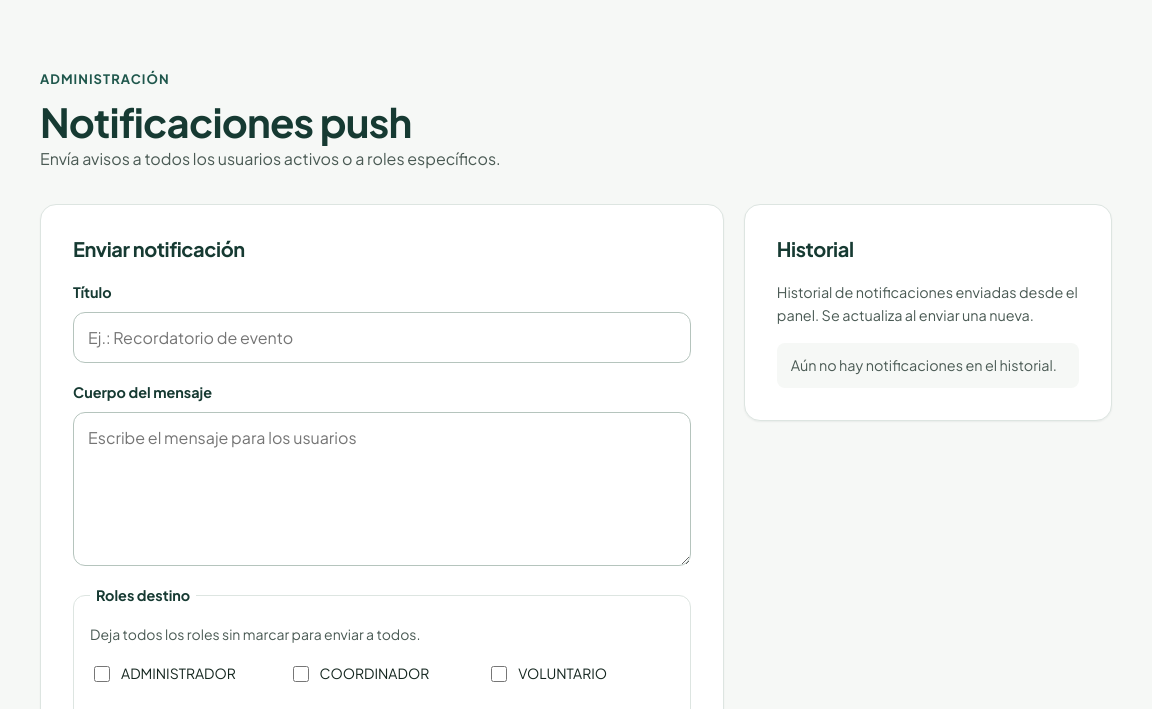
Test: Notifications › envía la notificación con los roles seleccionados
Type "Recordatorio" into the field labelled "Título" at [382, 337], box left=73, top=312, right=691, bottom=363
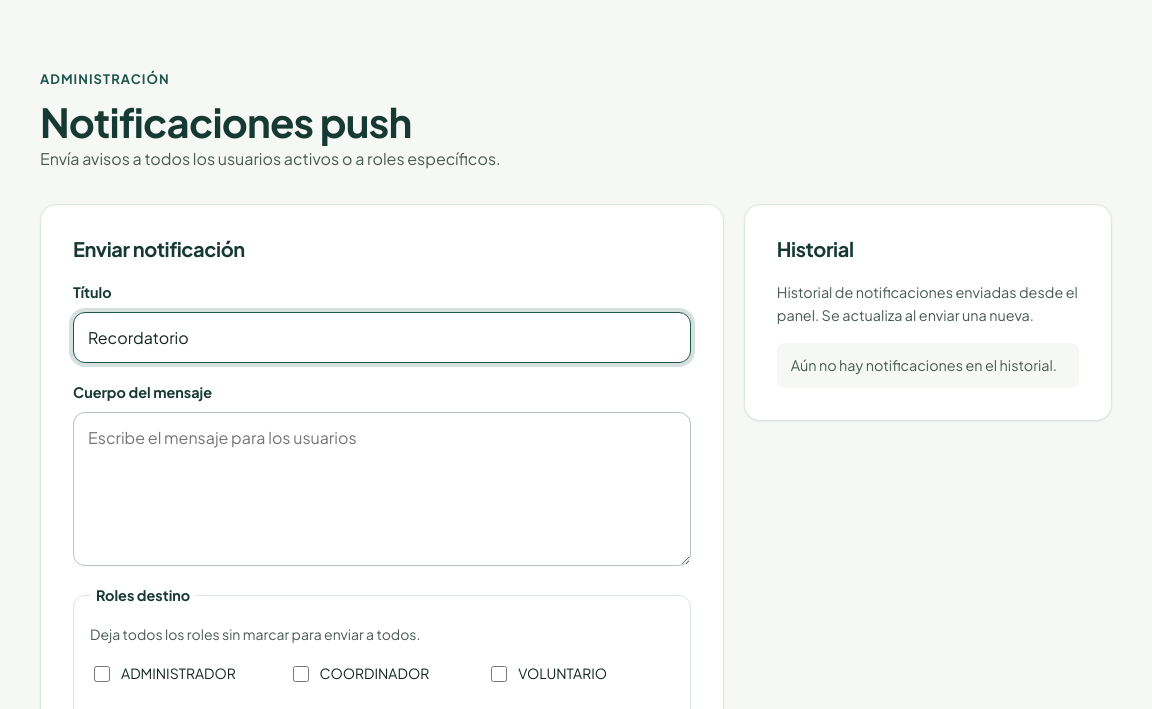
Type "El curso empieza el lunes" into the text box labelled "Cuerpo del mensaje" at [382, 489], box left=73, top=412, right=691, bottom=566
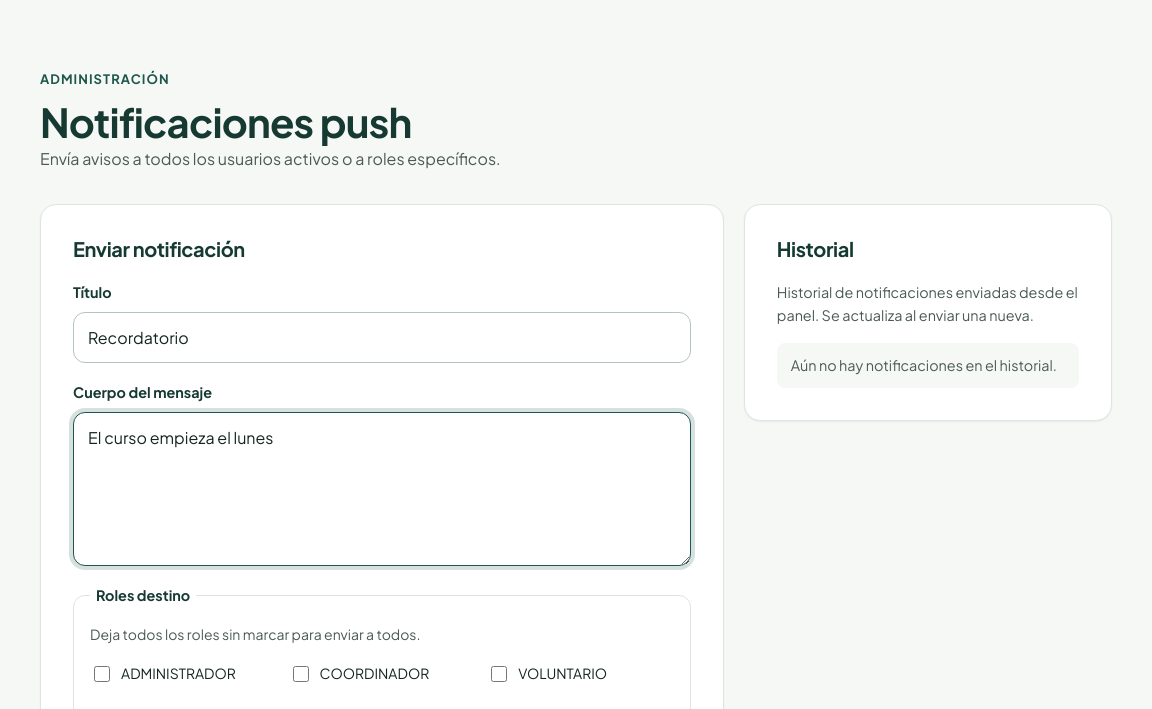
Click the checkbox labelled "VOLUNTARIO" at [499, 674], box left=491, top=666, right=507, bottom=682
(page scrolled)
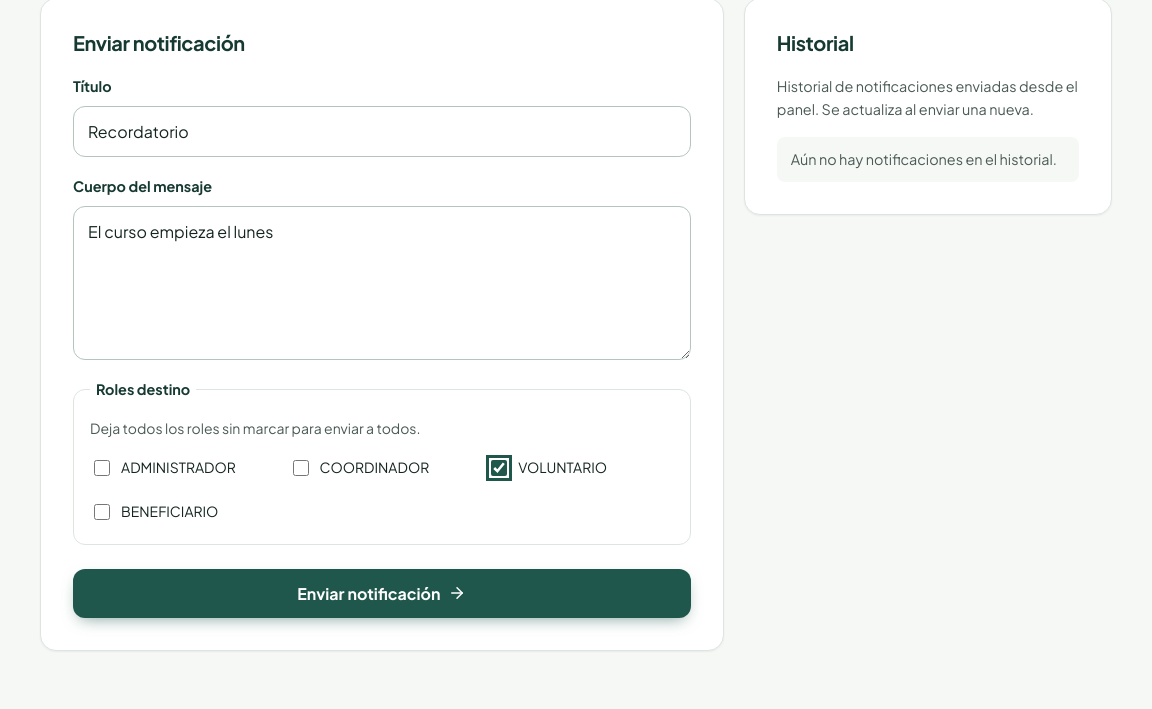
Click the button "Enviar notificación" at [382, 593], box left=73, top=569, right=691, bottom=618
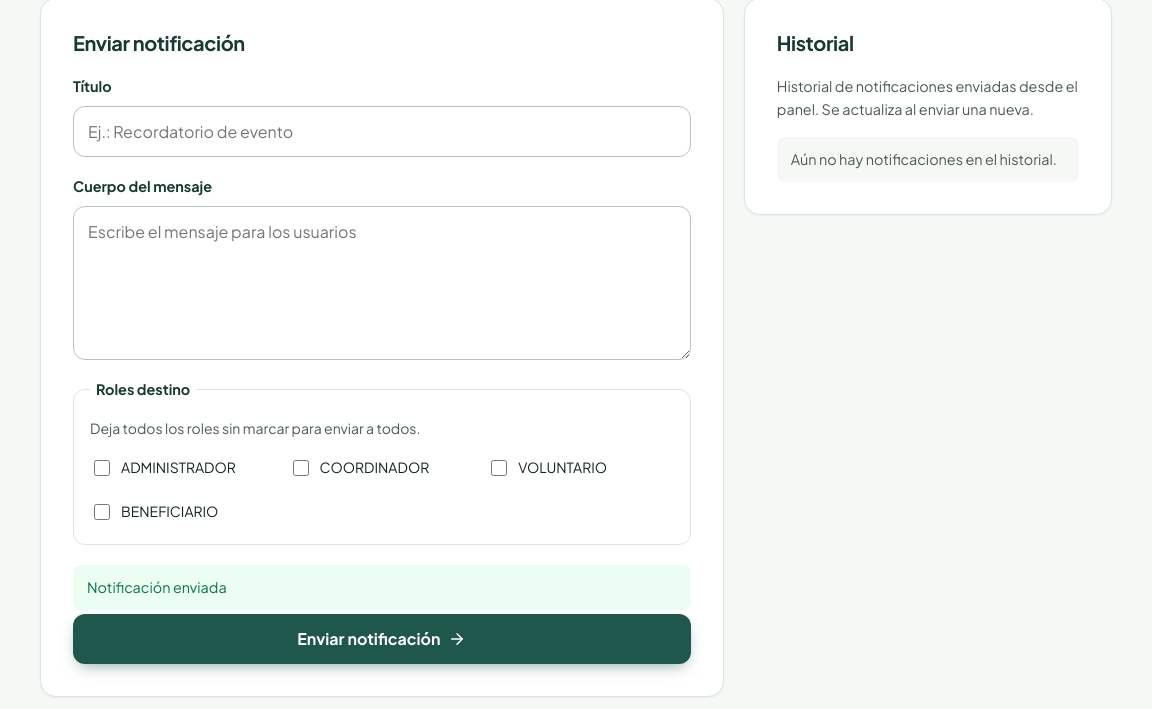
expect the text "Notificación enviada" is shown: met, box left=73, top=565, right=691, bottom=610
